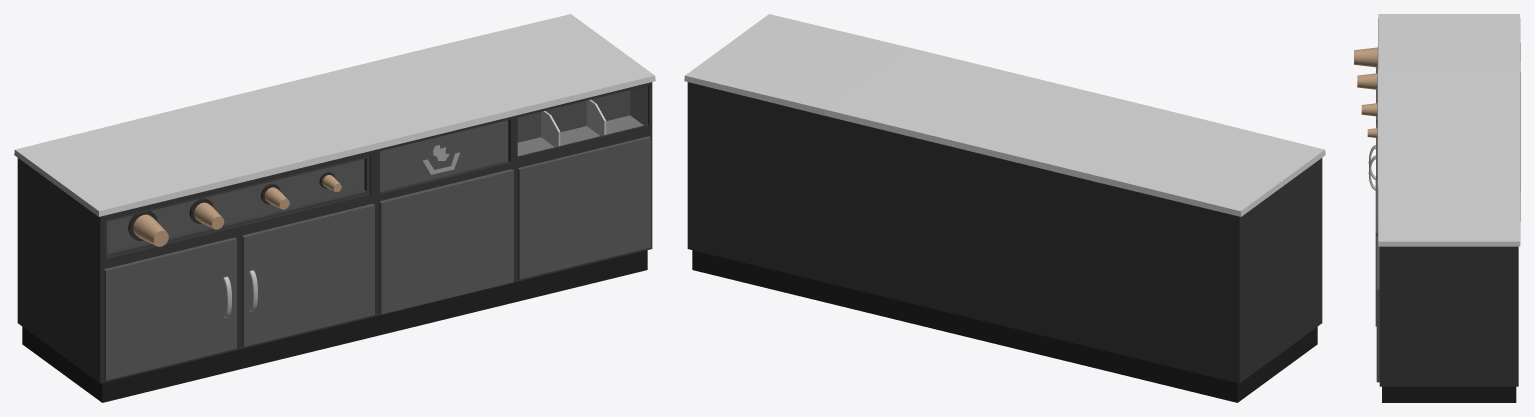
File: Slushie Counter White.fbx
The picture shows the model from 3 angles, left to right: view 1: azimuth 30°, elevation 25°; view 2: azimuth 150°, elevation 25°; view 3: azimuth 270°, elevation 25°; orthographic projection. The views are drawn at different scales.
Parts seen in each view (by area): view 1: Slushie Counter White; view 2: Slushie Counter White; view 3: Slushie Counter White.
Boxes of the visible parts, box(x1,y1,x2,y2) form: Slushie Counter White: box(14, 14, 655, 402); Slushie Counter White: box(684, 14, 1325, 402); Slushie Counter White: box(1354, 14, 1520, 402).
Bounding box in the file's own units: 287 × 96.05 × 88.63.
1 material, 1 textured.
